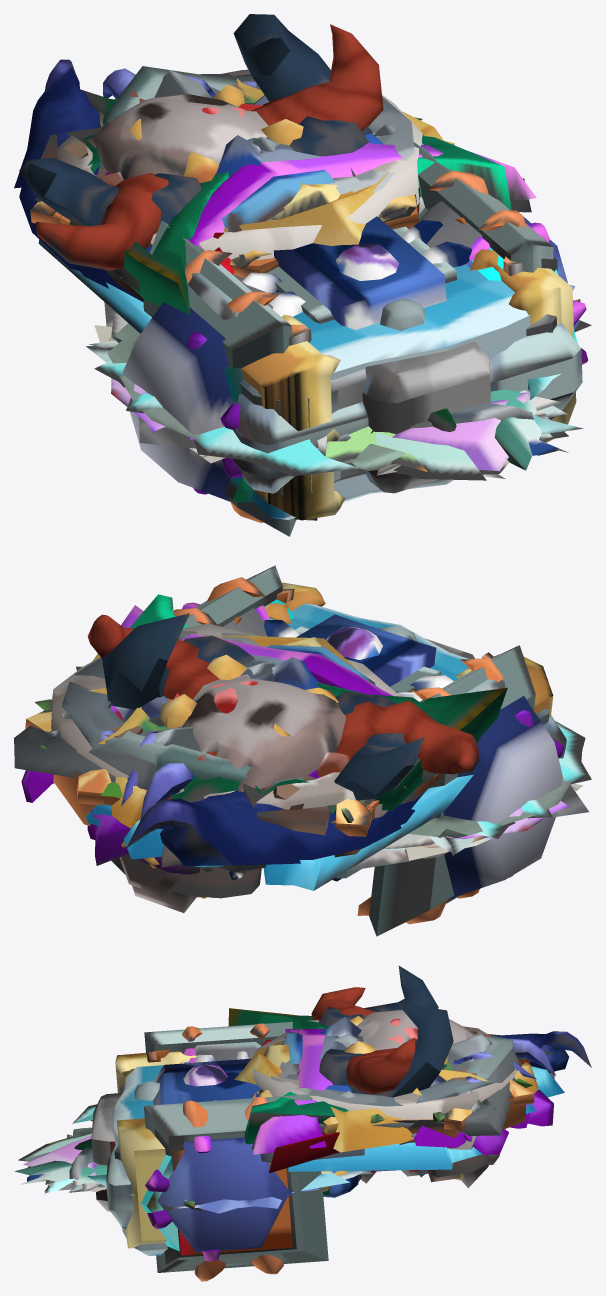
Rendered from Weaps.fbx.
3 views of the same model, one above another, from view 1: azimuth 30°, elevation 25°; view 2: azimuth 150°, elevation 25°; view 3: azimuth 270°, elevation 25° (orthographic). The views are drawn at different scales.
Visible parts, largest first — view 1: Darkness_04.001, Skull_05.001, Storm_04.001, antiquity_ice_05.001, Sharp_04.001, antiquity_ice_04.001, elf_04.001, Pirate_05.001, Darkness_05.001, Dark_05.001, Wood_05.001, Pirate_03.001 (+20 smaller); view 2: Skull_05.001, Darkness_04.001, antiquity_ice_05.001, Darkness_05.001, Sharp_04.001, Crazy_05.001, Pirate_05.001, Hard_05.001, Wood_05.001, Dark_05.001, Stone_05.001, Sharp_05.001 (+19 smaller); view 3: Darkness_04.001, Sharp_04.001, antiquity_ice_05.001, Dark_05.001, Skull_05.001, antiquity_abyss_04.001, elf_04.001, elf_05.001, Hard_05.001, Wood_05.001, Storm_04.001, Pirate_05.001 (+20 smaller).
Part boxes in pixels (<box>): Darkness_04.001: <box>122,209,579,501</box>; Skull_05.001: <box>35,24,383,300</box>; Storm_04.001: <box>232,323,582,493</box>; antiquity_ice_05.001: <box>19,14,373,333</box>; Sharp_04.001: <box>143,142,553,536</box>; antiquity_ice_04.001: <box>251,264,530,520</box>; elf_04.001: <box>241,249,576,520</box>; Pirate_05.001: <box>69,89,511,315</box>; Darkness_05.001: <box>14,59,256,302</box>; Dark_05.001: <box>105,142,536,248</box>; Wood_05.001: <box>56,69,422,260</box>; Pirate_03.001: <box>94,360,561,476</box>; Skull_05.001: <box>87,614,479,867</box>; Darkness_04.001: <box>264,614,564,898</box>; antiquity_ice_05.001: <box>53,613,473,890</box>; Darkness_05.001: <box>101,730,426,865</box>; Sharp_04.001: <box>185,565,535,936</box>; Crazy_05.001: <box>25,654,437,872</box>; Pirate_05.001: <box>130,594,507,814</box>; Hard_05.001: <box>14,645,273,789</box>; Wood_05.001: <box>51,623,400,809</box>; Dark_05.001: <box>21,605,393,865</box>; Stone_05.001: <box>62,631,259,793</box>; Sharp_05.001: <box>103,730,303,784</box>; Darkness_04.001: <box>153,1051,292,1252</box>; Sharp_04.001: <box>144,1020,328,1272</box>; antiquity_ice_05.001: <box>288,965,564,1171</box>; Dark_05.001: <box>252,1029,553,1154</box>; Skull_05.001: <box>311,987,554,1094</box>; antiquity_abyss_04.001: <box>147,1023,296,1281</box>; elf_04.001: <box>115,1051,196,1248</box>; elf_05.001: <box>234,1040,538,1152</box>; Hard_05.001: <box>280,1034,521,1135</box>; Wood_05.001: <box>253,1026,516,1119</box>; Storm_04.001: <box>91,1092,133,1227</box>; Pirate_05.001: <box>228,1008,554,1144</box>.
Bounding box in the file's own units: 79.43 × 59.19 × 122.
1 material, 1 textured.
